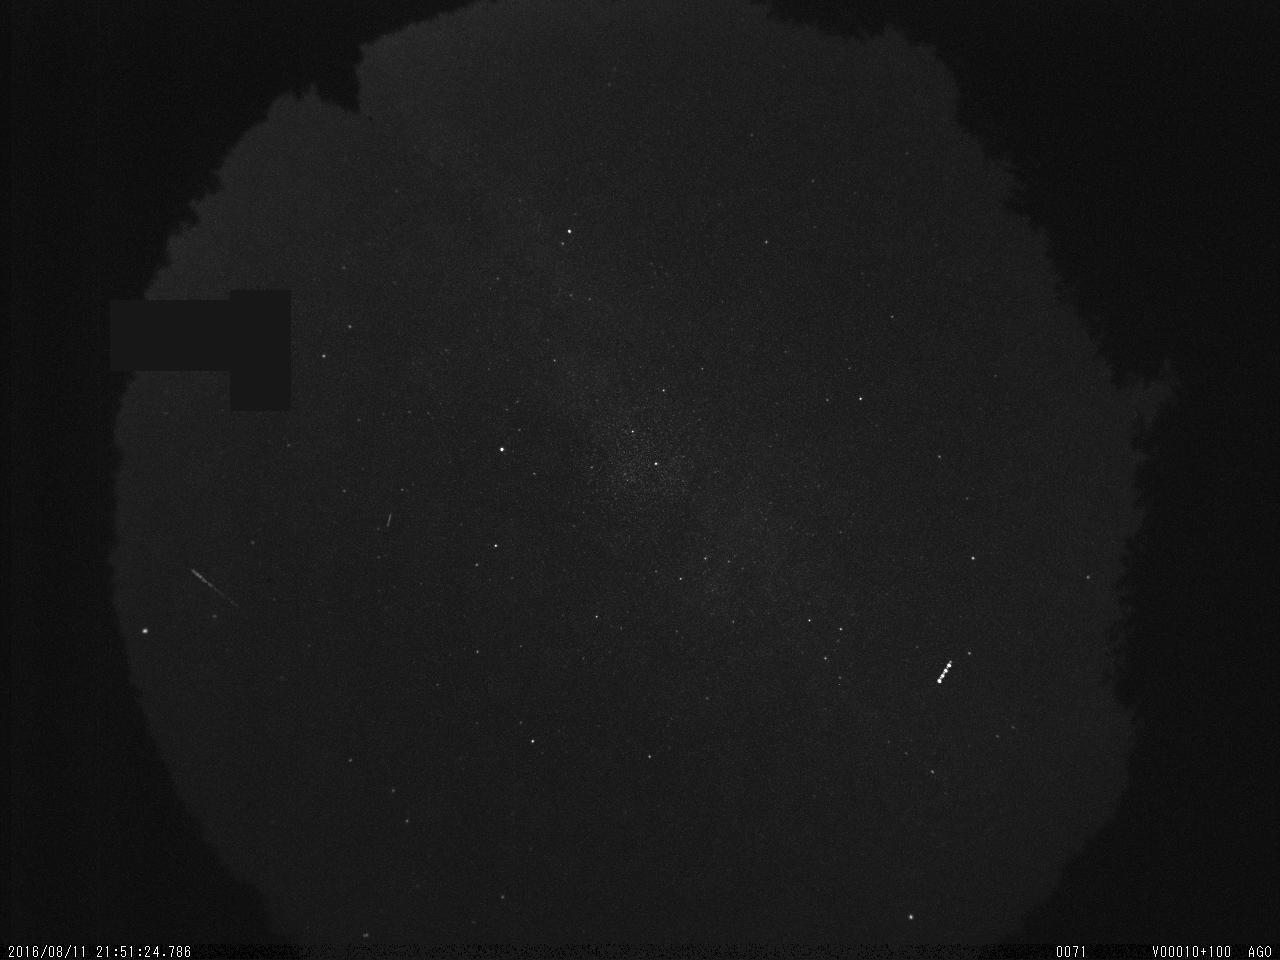meteor: (185, 562, 250, 615)
satelite: (931, 647, 959, 694)
